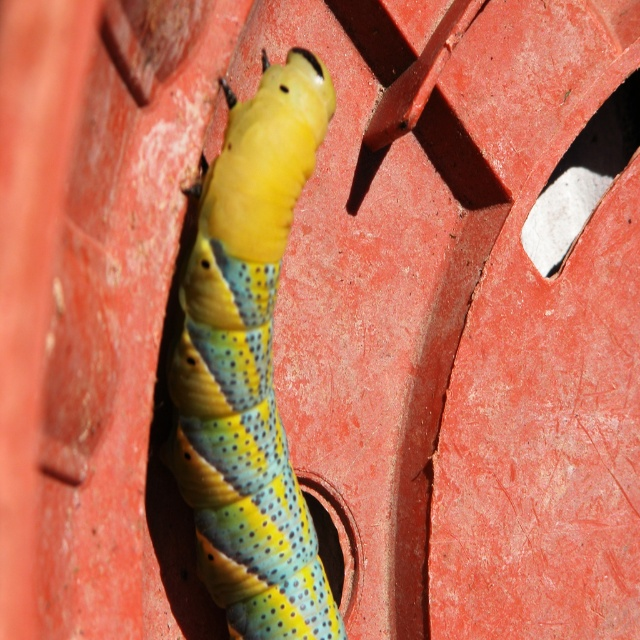Caterpillar: (174, 43, 347, 639)
